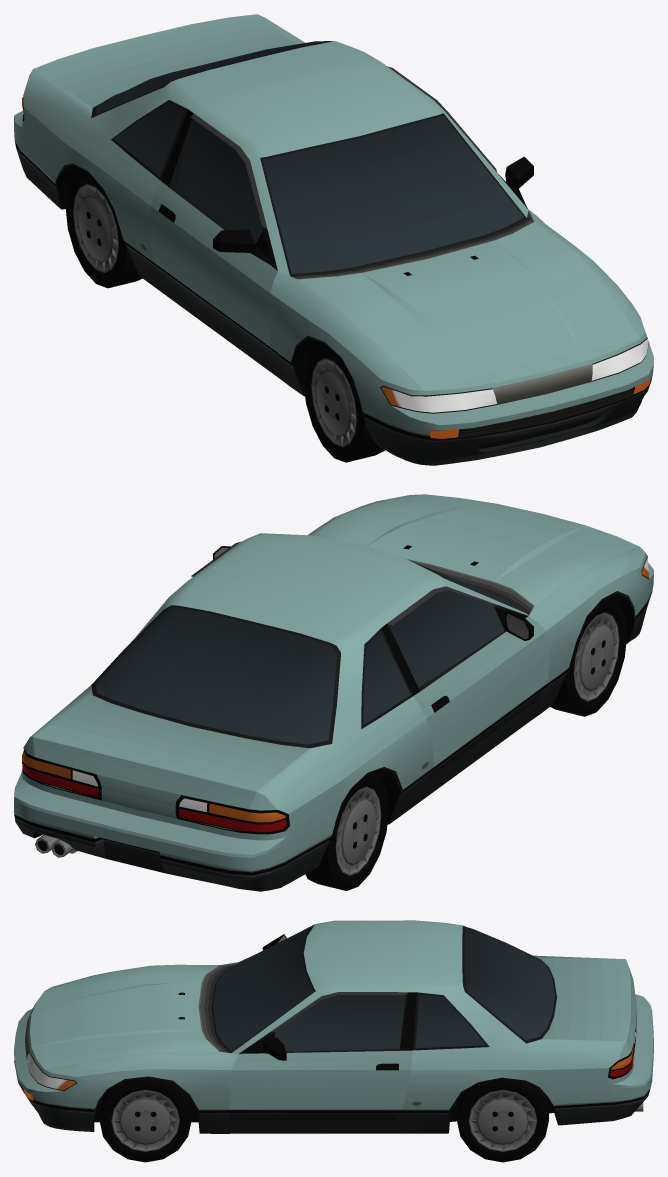
3 views of the same model, one above another, from view 1: azimuth 30°, elevation 25°; view 2: azimuth 150°, elevation 25°; view 3: azimuth 270°, elevation 25° (orthographic). The views are drawn at different scales.
Parts seen in each view (by area): view 1: Body, FR, RR; view 2: Body, RR, FR; view 3: Body, FL, RL.
Boxes of the visible parts, x1=… form: Body: x1=14, y1=14, x2=653, y2=465; FR: x1=303, y1=343, x2=384, y2=462; RR: x1=65, y1=169, x2=142, y2=288; Body: x1=14, y1=494, x2=653, y2=891; RR: x1=305, y1=772, x2=388, y2=890; FR: x1=550, y1=597, x2=626, y2=716; Body: x1=14, y1=920, x2=653, y2=1133; FL: x1=99, y1=1077, x2=191, y2=1162; RL: x1=457, y1=1078, x2=548, y2=1162.
Size of the model in its own units: 1.94 by 1.27 by 4.52.
3 materials, 3 textured.
